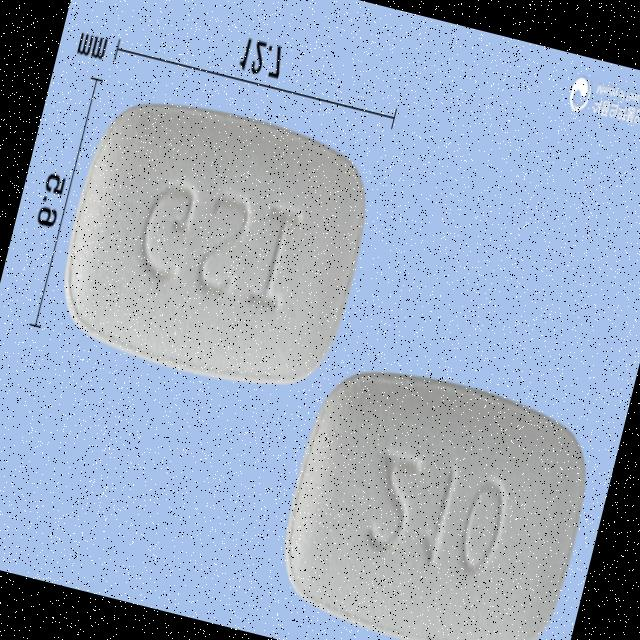Descovy -25mg: (42, 81, 386, 408), (265, 348, 606, 640)
